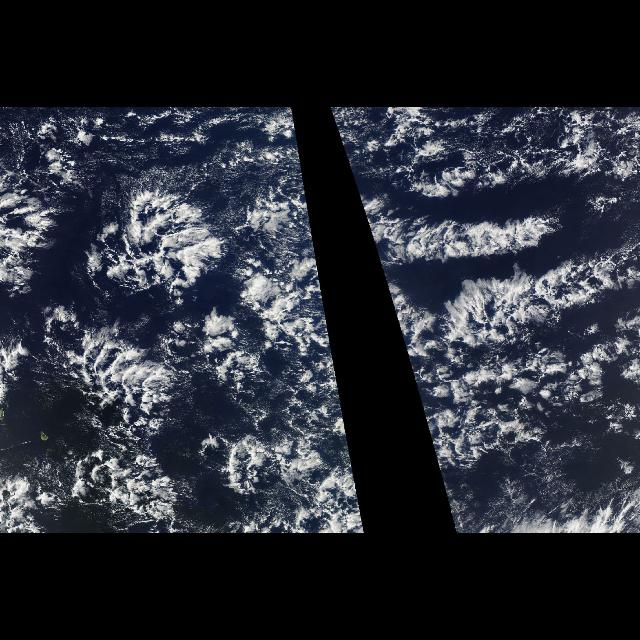Fish: (29, 190, 363, 524), (356, 190, 640, 524)
Flower: (64, 194, 224, 524)
Gravel: (51, 185, 362, 515), (355, 185, 609, 515)
